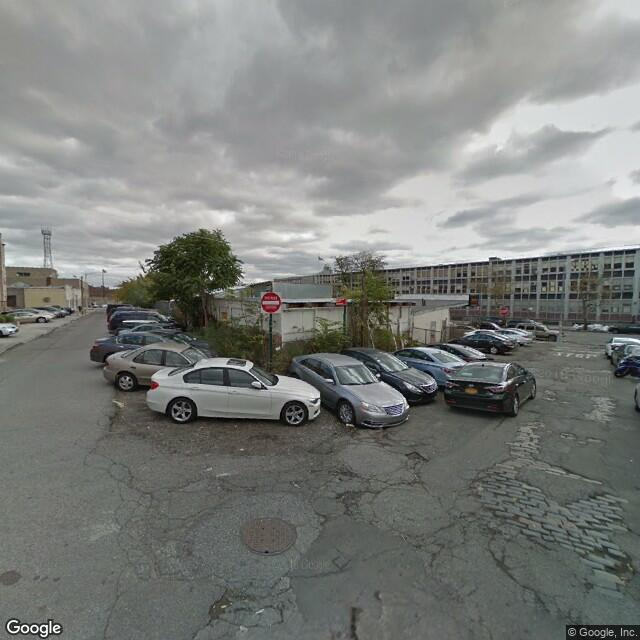litter: (255, 608, 263, 613), (345, 423, 354, 427), (239, 447, 245, 451)
